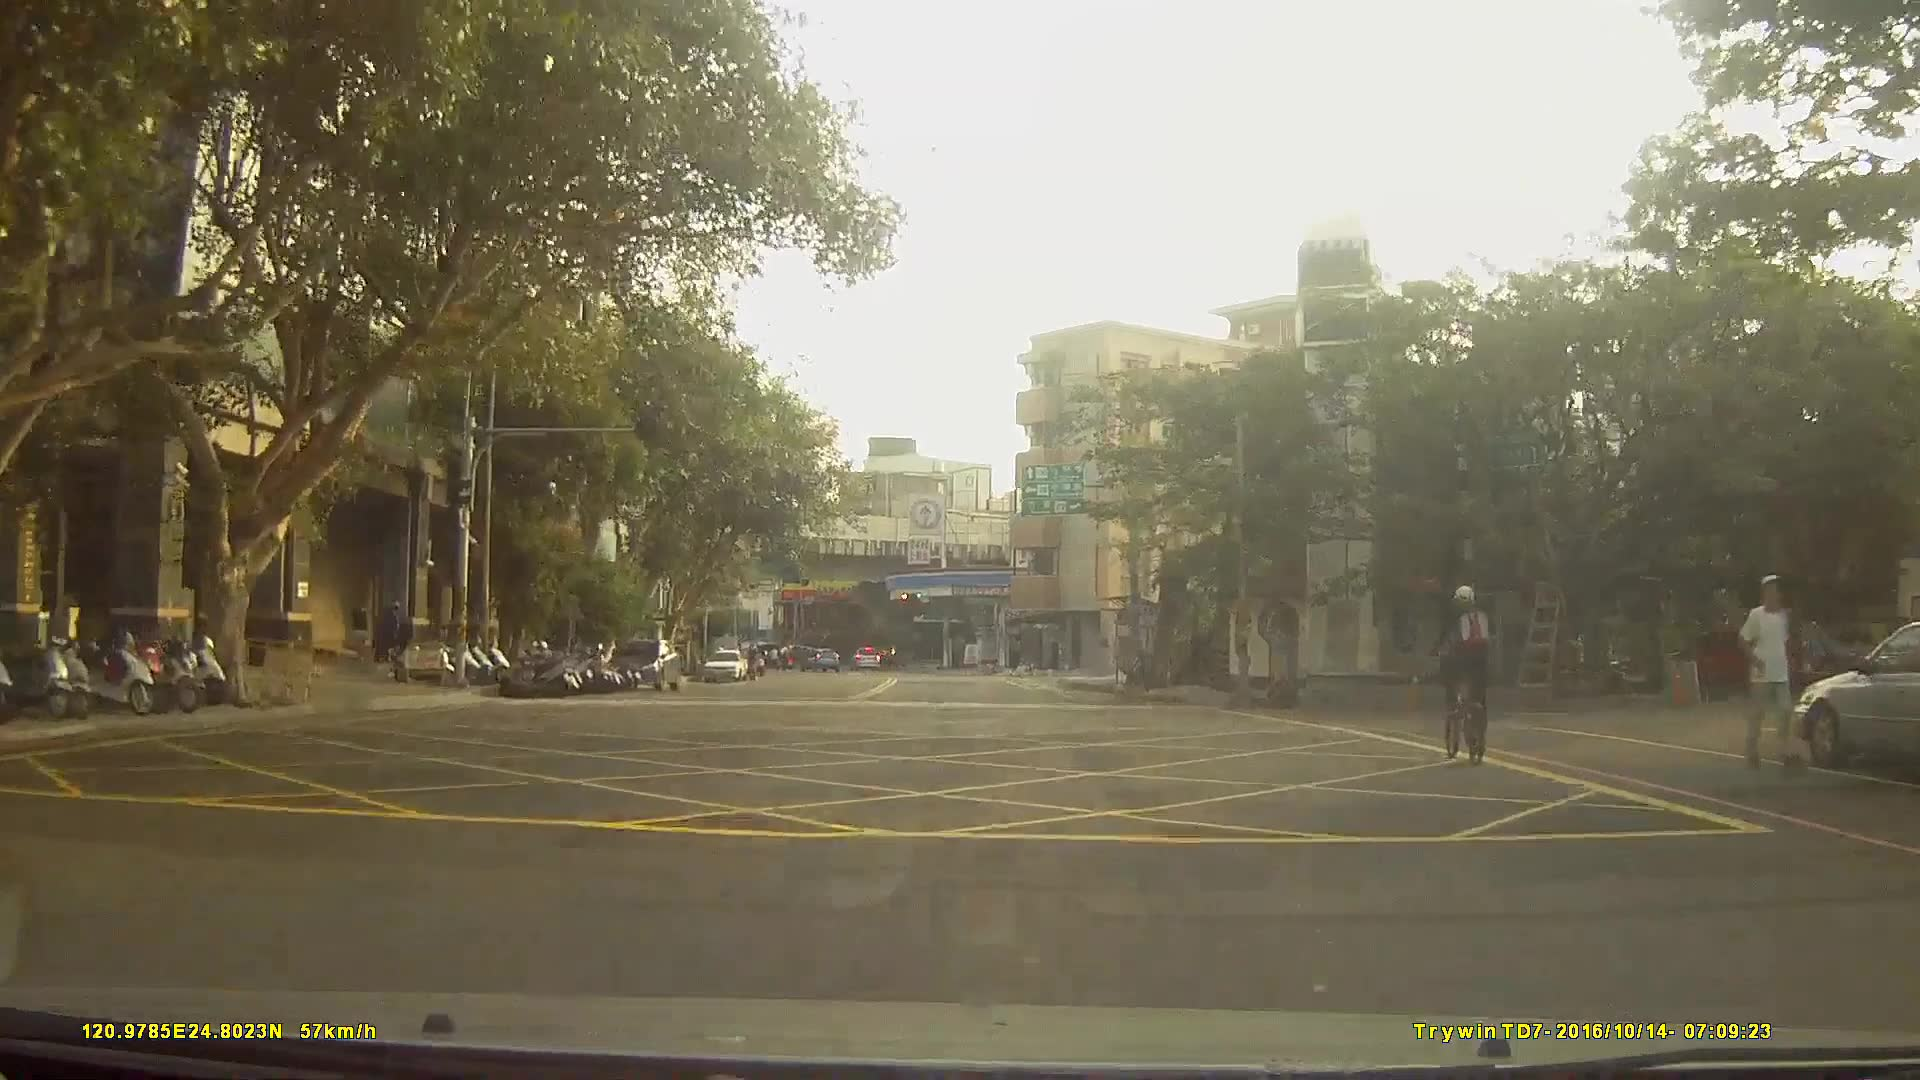pedestrian: (1730, 574, 1811, 778), (349, 600, 371, 663)
rider: (1430, 581, 1492, 766)
vehicle: (1792, 619, 1920, 776), (609, 638, 679, 692), (699, 648, 745, 684), (798, 645, 838, 671), (849, 642, 882, 669)
